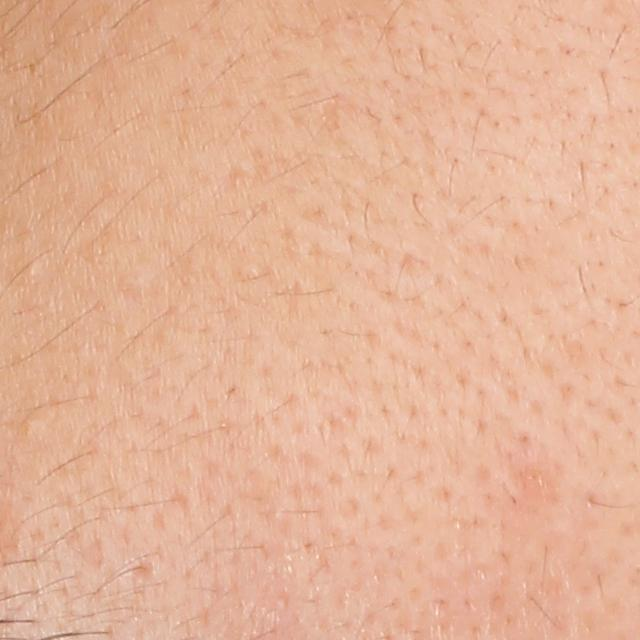comedo: (25, 257, 45, 280), (24, 412, 42, 437)
